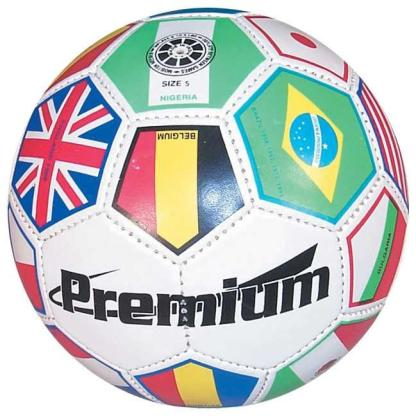ball: (8, 8, 409, 404)
